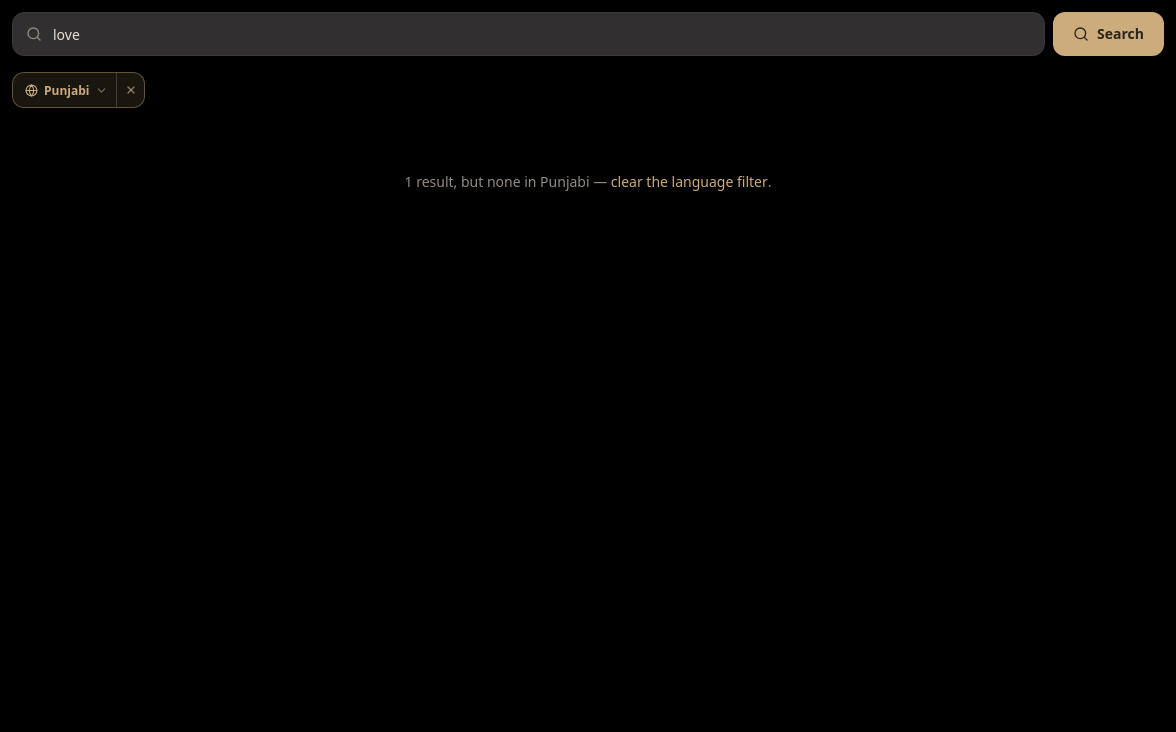
Test case: Search language filter › clearing the language filter from that message restores the results
The width and height of the screenshot is (1176, 732).
Click the button "clear the language filter" at (689, 182), box [611,172,768,192]
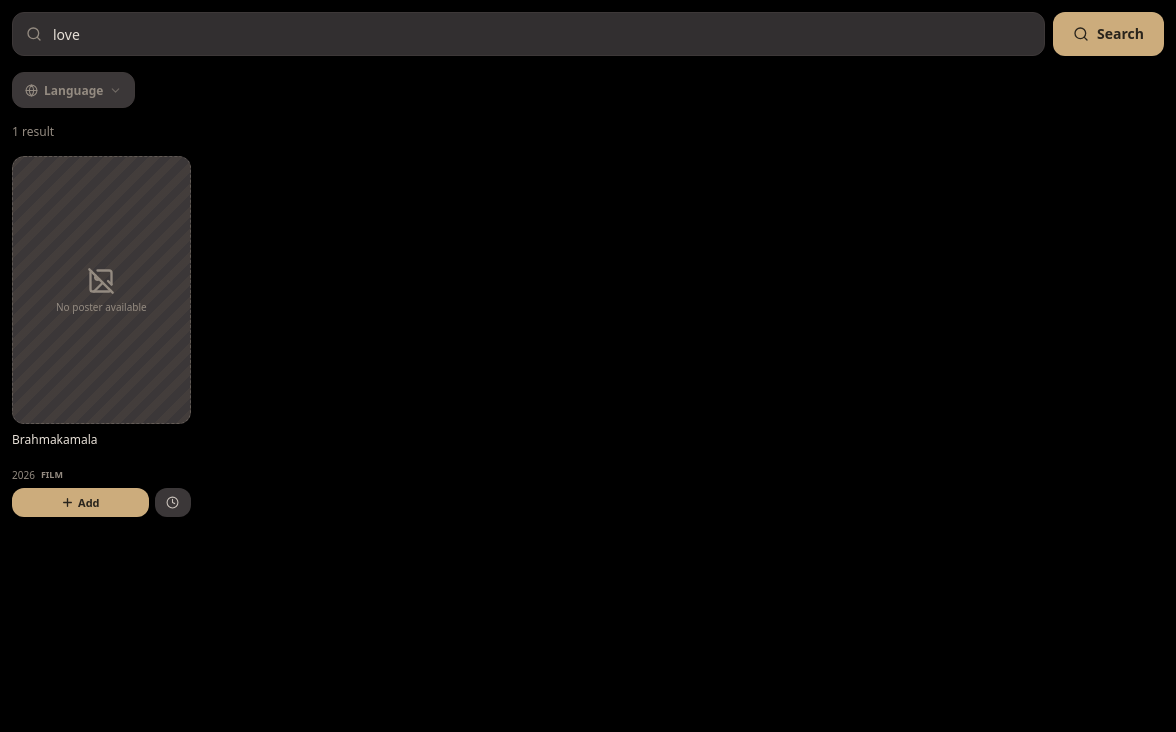
Check: the heading "Brahmakamala" is shown, box [12,431,98,448]
